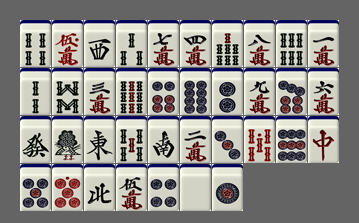0m: (52, 20, 83, 67)
0p: (52, 164, 83, 211)
0s: (244, 116, 275, 163)
1m: (308, 20, 339, 67)
1p: (212, 164, 243, 211)
1s: (52, 116, 83, 163)
1z: (84, 116, 115, 163)
2m: (180, 116, 211, 163)
2p: (212, 68, 243, 115)
2s: (20, 68, 51, 115)
2z: (148, 116, 179, 163)
3m: (84, 68, 115, 115)
3p: (212, 116, 243, 163)
3s: (116, 20, 147, 67)
3z: (84, 20, 115, 67)
4m: (180, 20, 211, 67)
4p: (148, 164, 179, 211)
4s: (20, 20, 51, 67)
4z: (84, 164, 115, 211)
5m: (116, 164, 147, 211)
5p: (20, 164, 51, 211)
5s: (116, 116, 147, 163)
5z: (180, 164, 211, 211)
6m: (308, 68, 339, 115)
6p: (148, 68, 179, 115)
6s: (276, 20, 307, 67)
6z: (20, 116, 51, 163)
7m: (148, 20, 179, 67)
7p: (276, 68, 307, 115)
7s: (212, 20, 243, 67)
7z: (308, 116, 339, 163)
8m: (244, 20, 275, 67)
8p: (180, 68, 211, 115)
8s: (52, 68, 83, 115)
9m: (244, 68, 275, 115)
9p: (276, 116, 307, 163)
9s: (116, 68, 147, 115)
